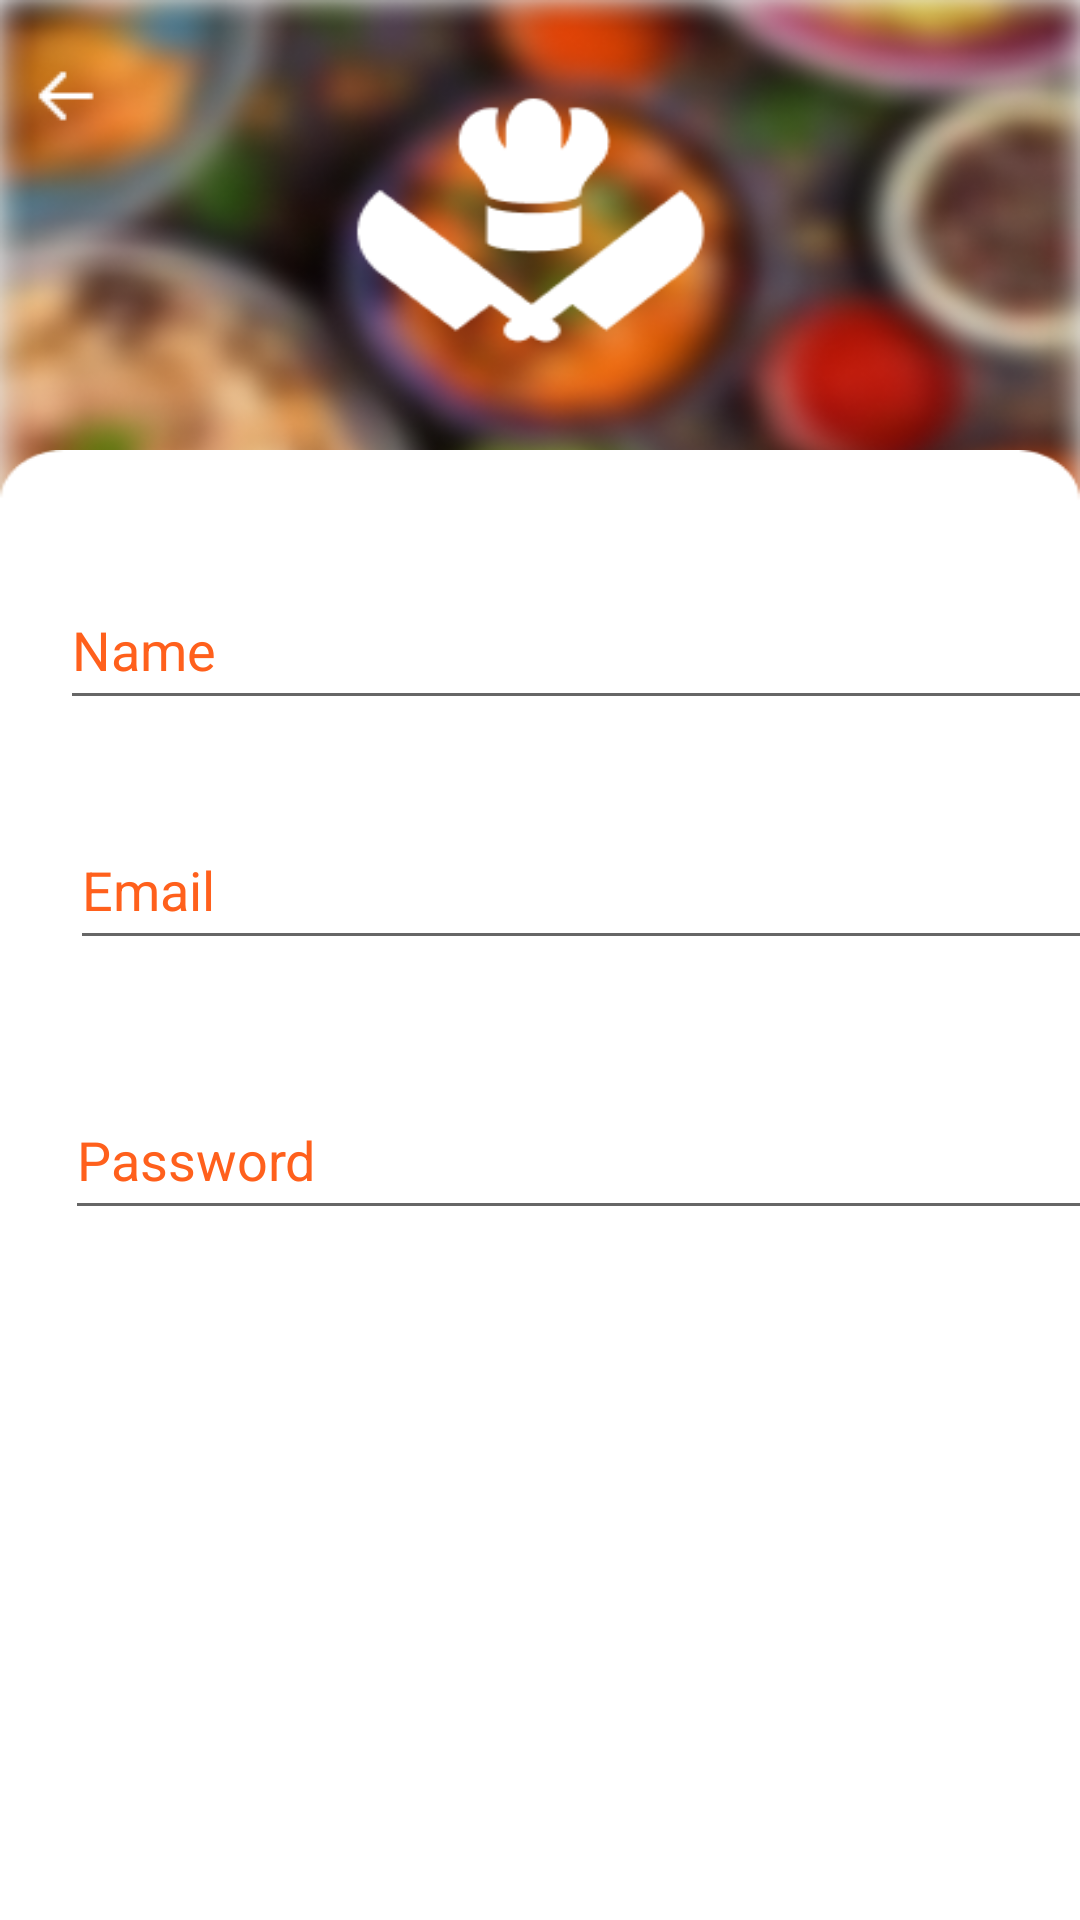

Point at icon controls on the screen. Image size 1080px×1920px, points as point (x, y).
arrow: point (66, 96)
